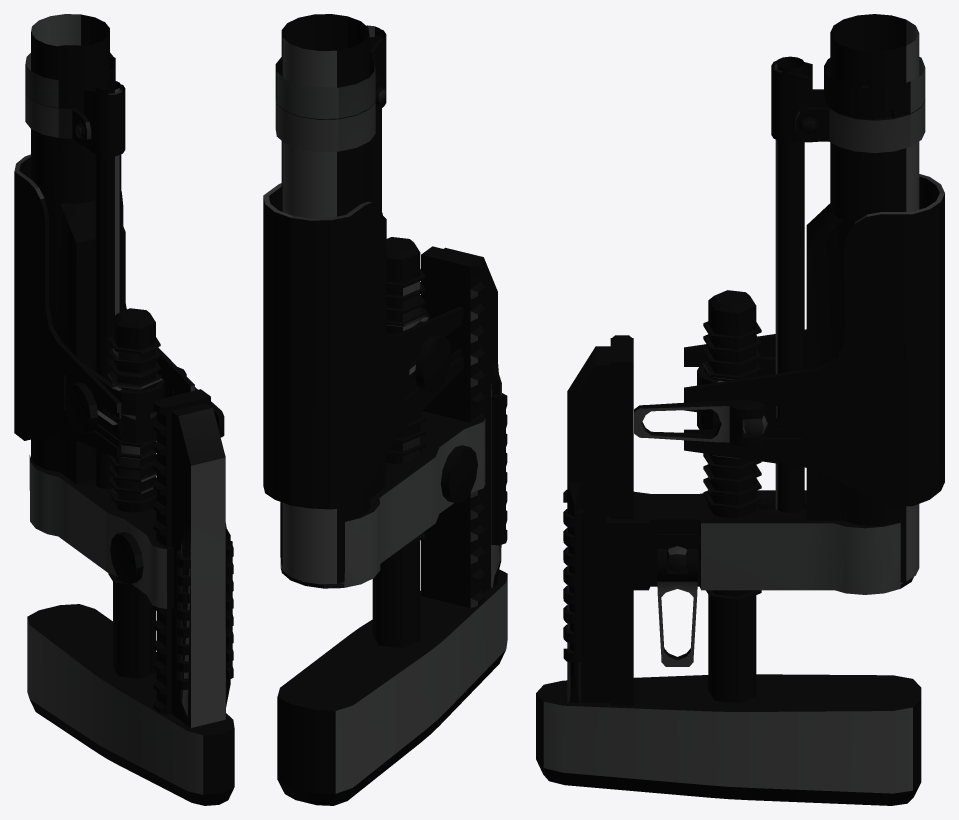
File: Stock_RPR.fbx
The picture shows the model from 3 angles, left to right: view 1: azimuth 30°, elevation 25°; view 2: azimuth 150°, elevation 25°; view 3: azimuth 270°, elevation 25°; orthographic projection. The views are drawn at different scales.
Visible parts, largest first — view 1: asset_RugerRPR.002; view 2: asset_RugerRPR.002; view 3: asset_RugerRPR.002.
Boxes of the visible parts, x1,y1,x2,y2 form: asset_RugerRPR.002: [14, 14, 234, 805]; asset_RugerRPR.002: [263, 14, 507, 805]; asset_RugerRPR.002: [536, 14, 944, 805].
Bounding box in the file's own units: 0.0265 × 0.1634 × 0.0792.
